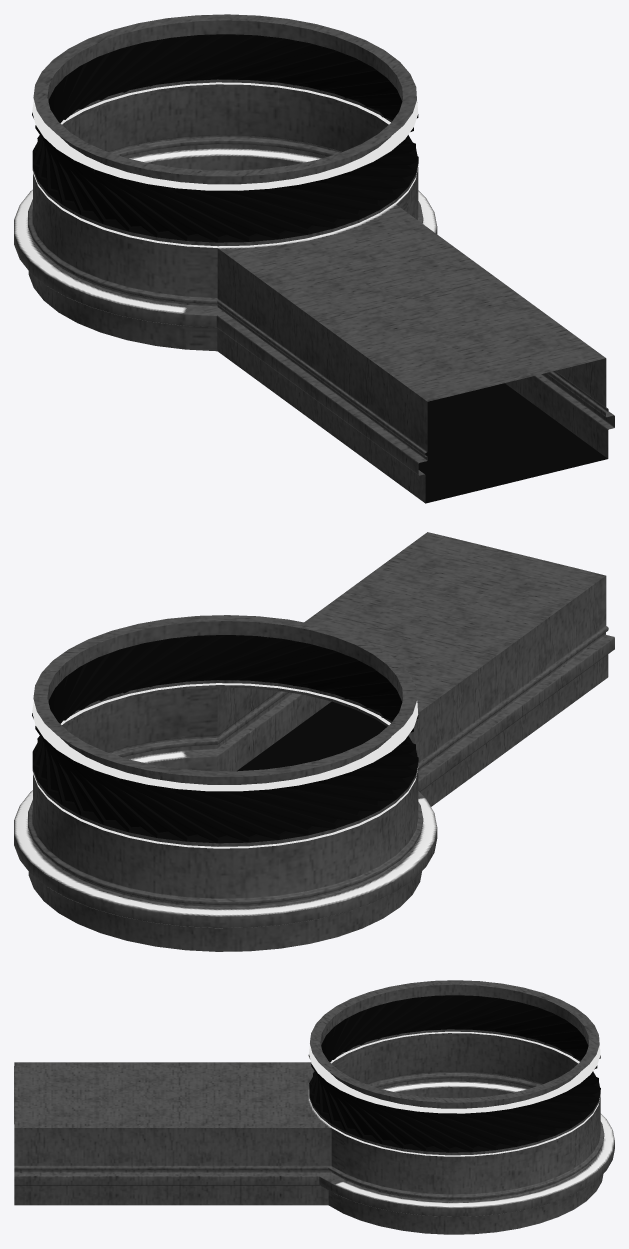
The model's file is showroom.glb.
The picture shows the model from 3 angles, top to bottom: view 1: azimuth 30°, elevation 25°; view 2: azimuth 150°, elevation 25°; view 3: azimuth 270°, elevation 25°; orthographic projection. The views are drawn at different scales.
Visible parts, largest first — view 1: Showroom; view 2: Showroom; view 3: Showroom.
Part boxes in pixels (x1,y1,x2,y2): Showroom: (14, 14, 614, 503); Showroom: (14, 532, 614, 951); Showroom: (14, 980, 614, 1234).
Size of the model in its own units: 85.86 by 38.66 by 161.
Materials: 1 (1 with a texture image).
